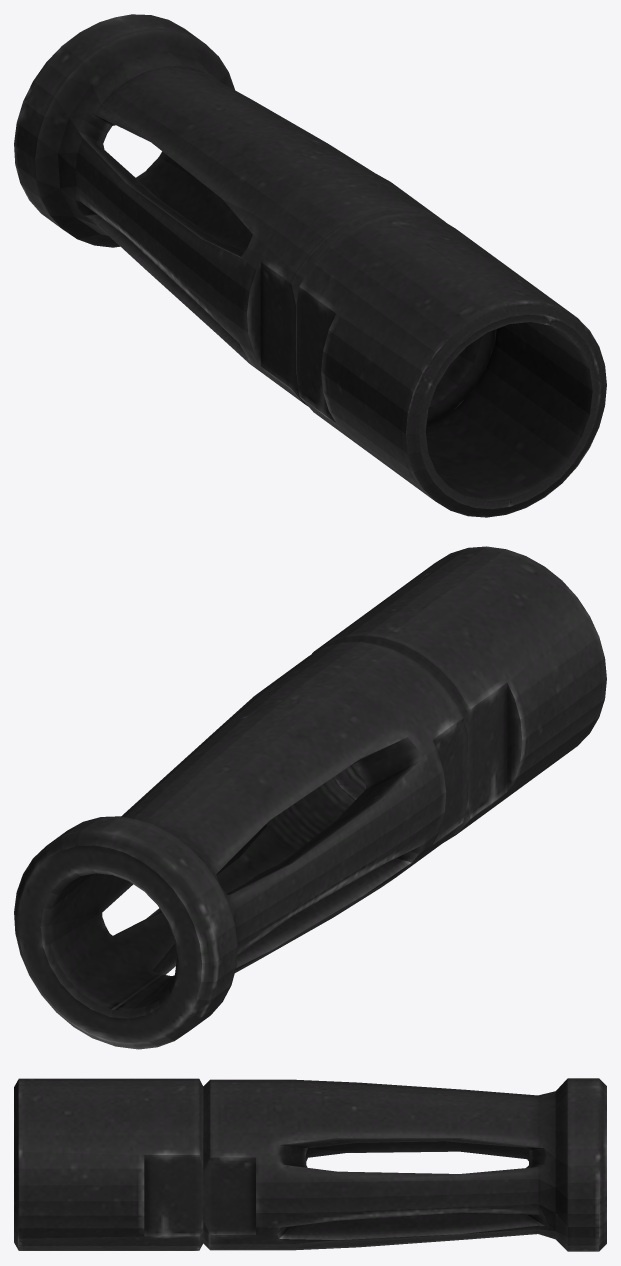
3 views of the same model, one above another, from view 1: azimuth 30°, elevation 25°; view 2: azimuth 150°, elevation 25°; view 3: azimuth 270°, elevation 25° (orthographic). The views are drawn at different scales.
Parts seen in each view (by area): view 1: TW_630f28f0cadb1fe05e06f004_PZ_Import; view 2: TW_630f28f0cadb1fe05e06f004_PZ_Import; view 3: TW_630f28f0cadb1fe05e06f004_PZ_Import.
Boxes of the visible parts, x1=… form: TW_630f28f0cadb1fe05e06f004_PZ_Import: x1=14, y1=14, x2=606, y2=517; TW_630f28f0cadb1fe05e06f004_PZ_Import: x1=14, y1=546, x2=606, y2=1049; TW_630f28f0cadb1fe05e06f004_PZ_Import: x1=14, y1=1078, x2=606, y2=1251.
Bounding box in the file's own units: 0.0129 × 0.044 × 0.0129.
Materials: 1 (1 with a texture image).
